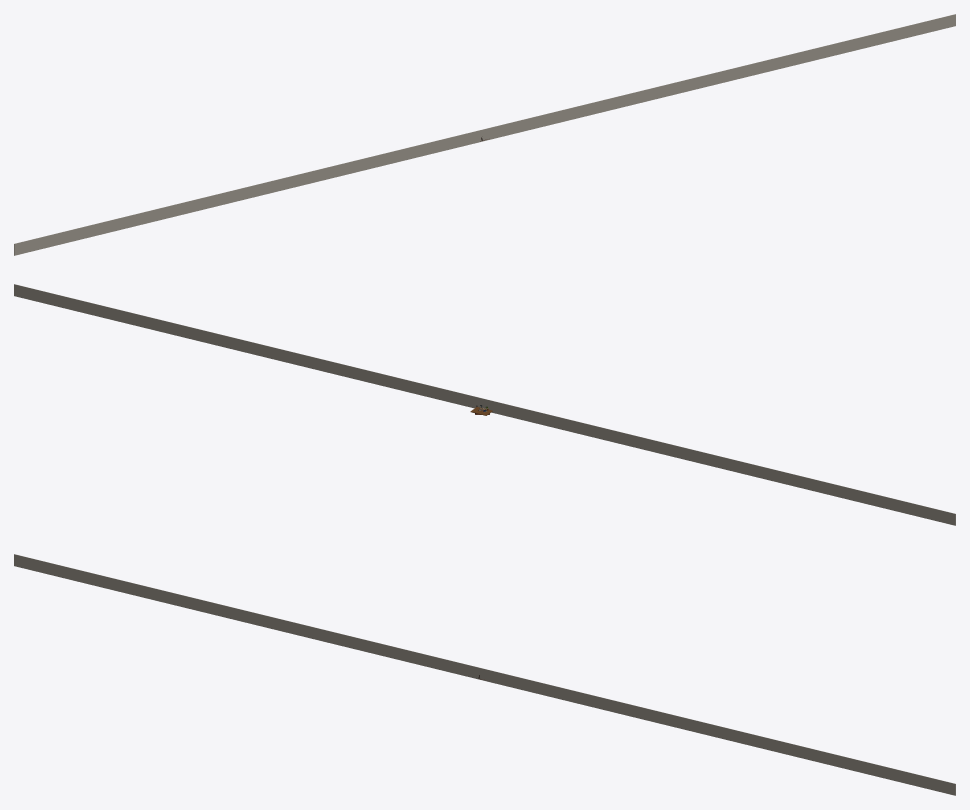
The model's file is viga.glb.
The picture shows the model from 3 angles, top to bottom: view 1: azimuth 30°, elevation 25°; view 2: azimuth 150°, elevation 25°; view 3: azimuth 330°, elevation 25°; orthographic projection.
Visible parts, largest first — view 1: Wall; view 2: Wall; view 3: Wall.
Part boxes in pixels (left/top/right/bottom): Wall: left=14, top=14, right=955, bottom=255; Wall: left=14, top=284, right=955, bottom=525; Wall: left=14, top=554, right=955, bottom=795.
Bounding box in the file's own units: 200 × 2.83 × 3.13.
Materials: 25 (6 with a texture image).
